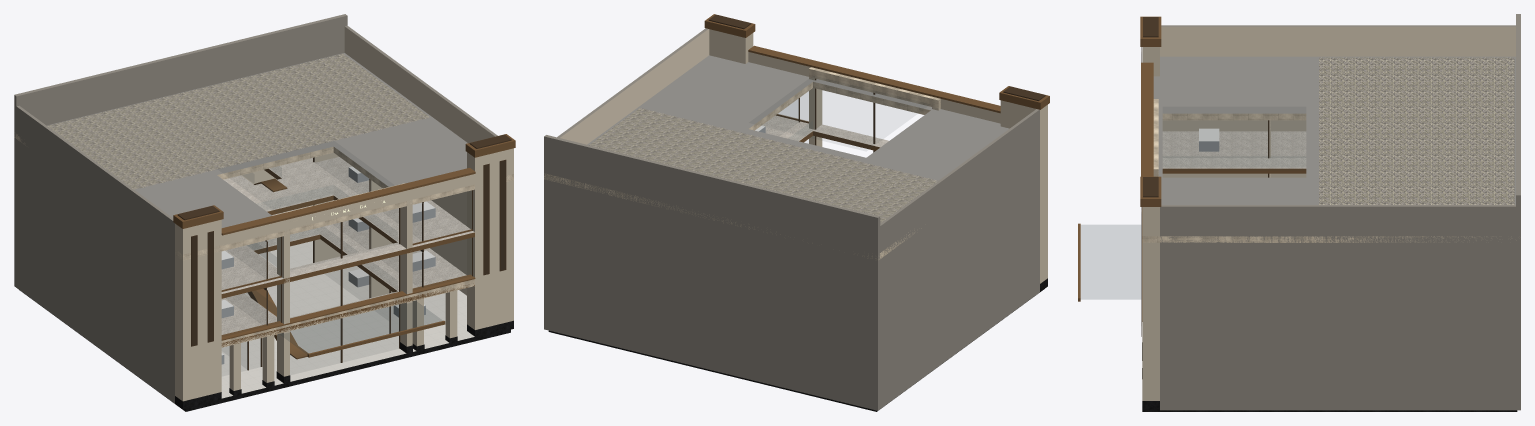
Rendered from the_promenade_galleria_LOD2.fbx.
3 views of the same model, side by side, from view 1: azimuth 30°, elevation 25°; view 2: azimuth 150°, elevation 25°; view 3: azimuth 270°, elevation 25° (orthographic). The views are drawn at different scales.
Parts seen in each view (by area): view 1: B05_LOD2_BUILDING_EXTERIOR_Stone, B05_LOD2_BUILDING_EXTERIOR_Roof, B05_LOD2_BUILDING_INTERIOR_GroundSlab, B05_LOD2_BUILDING_EXTERIOR_RearInterface, B05_LOD2_BUILDING_INTERIOR_L2Slab, B05_LOD2_BUILDING_INTERIOR_L1Slab, B05_LOD2_FACADE_DETAILS_Bronze, B05_LOD2_FACADE_DETAILS_Canopy, B05_LOD2_GLASS_SYSTEM_TowerSlots, B05_LOD2_DISPLAY_OBJECTS_Merch, B05_LOD2_BUILDING_INTERIOR_Shopfronts, B05_LOD2_BUILDING_INTERIOR_EscalatorUp1 (+1 smaller); view 2: B05_LOD2_BUILDING_EXTERIOR_Stone, B05_LOD2_BUILDING_EXTERIOR_Roof, B05_LOD2_BUILDING_EXTERIOR_RearInterface, B05_LOD2_FACADE_DETAILS_Bronze, B05_LOD2_BUILDING_INTERIOR_L2Slab, B05_LOD2_BUILDING_INTERIOR_GroundSlab; view 3: B05_LOD2_BUILDING_EXTERIOR_Stone, B05_LOD2_BUILDING_EXTERIOR_Roof, B05_LOD2_BUILDING_INTERIOR_L2Slab, B05_LOD2_FACADE_DETAILS_Canopy, B05_LOD2_FACADE_DETAILS_Bronze, B05_LOD2_BUILDING_EXTERIOR_RearInterface, B05_LOD2_BUILDING_INTERIOR_GroundSlab, B05_LOD2_DISPLAY_OBJECTS_Merch.
Part boxes in pixels (x1=…): B05_LOD2_BUILDING_EXTERIOR_Stone: x1=14, y1=25, x2=513, y2=409; B05_LOD2_BUILDING_EXTERIOR_Roof: x1=14, y1=53, x2=513, y2=260; B05_LOD2_BUILDING_INTERIOR_GroundSlab: x1=19, y1=241, x2=510, y2=411; B05_LOD2_BUILDING_EXTERIOR_RearInterface: x1=14, y1=14, x2=347, y2=287; B05_LOD2_BUILDING_INTERIOR_L2Slab: x1=221, y1=157, x2=474, y2=298; B05_LOD2_BUILDING_INTERIOR_L1Slab: x1=221, y1=205, x2=474, y2=347; B05_LOD2_FACADE_DETAILS_Bronze: x1=173, y1=134, x2=515, y2=340; B05_LOD2_FACADE_DETAILS_Canopy: x1=280, y1=301, x2=445, y2=357; B05_LOD2_GLASS_SYSTEM_TowerSlots: x1=191, y1=159, x2=506, y2=346; B05_LOD2_DISPLAY_OBJECTS_Merch: x1=221, y1=166, x2=435, y2=364; B05_LOD2_BUILDING_INTERIOR_Shopfronts: x1=241, y1=152, x2=423, y2=297; B05_LOD2_BUILDING_INTERIOR_EscalatorUp1: x1=247, y1=288, x2=308, y2=359; B05_LOD2_BUILDING_EXTERIOR_Stone: x1=544, y1=28, x2=1047, y2=410; B05_LOD2_BUILDING_EXTERIOR_Roof: x1=544, y1=55, x2=1009, y2=259; B05_LOD2_BUILDING_EXTERIOR_RearInterface: x1=544, y1=135, x2=880, y2=410; B05_LOD2_FACADE_DETAILS_Bronze: x1=704, y1=14, x2=1049, y2=113; B05_LOD2_BUILDING_INTERIOR_L2Slab: x1=762, y1=113, x2=888, y2=150; B05_LOD2_BUILDING_INTERIOR_GroundSlab: x1=548, y1=289, x2=1043, y2=411; B05_LOD2_BUILDING_EXTERIOR_Stone: x1=1142, y1=25, x2=1520, y2=410; B05_LOD2_BUILDING_EXTERIOR_Roof: x1=1142, y1=56, x2=1516, y2=242; B05_LOD2_BUILDING_INTERIOR_L2Slab: x1=1162, y1=131, x2=1306, y2=173; B05_LOD2_FACADE_DETAILS_Canopy: x1=1078, y1=223, x2=1140, y2=301; B05_LOD2_FACADE_DETAILS_Bronze: x1=1140, y1=16, x2=1161, y2=321; B05_LOD2_BUILDING_EXTERIOR_RearInterface: x1=1516, y1=14, x2=1520, y2=342; B05_LOD2_BUILDING_INTERIOR_GroundSlab: x1=1142, y1=410, x2=1517, y2=411; B05_LOD2_DISPLAY_OBJECTS_Merch: x1=1199, y1=128, x2=1219, y2=151.
Bounding box in the file's own units: 34.2 × 35.1 × 19.08.
